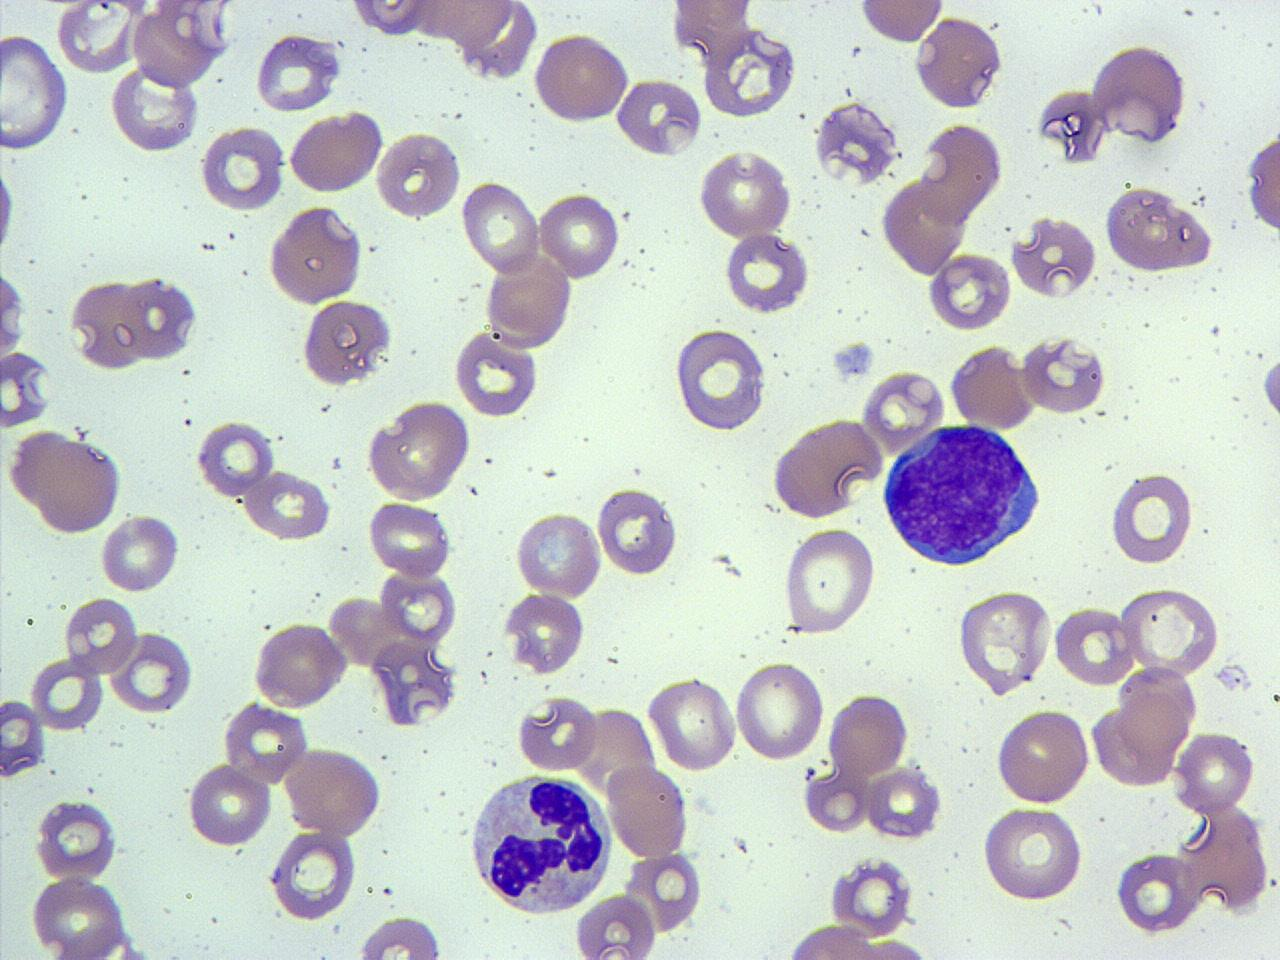Platelets: (830, 338, 877, 379), (0, 160, 17, 259), (1259, 352, 1280, 424), (1212, 661, 1252, 694)
RBC: (770, 414, 886, 522), (366, 398, 472, 502), (957, 588, 1056, 698), (978, 802, 1085, 903), (782, 524, 878, 636), (264, 203, 366, 308), (1090, 42, 1190, 147), (672, 326, 767, 434), (992, 706, 1092, 808), (1118, 584, 1222, 680), (1102, 184, 1210, 276), (644, 674, 740, 774), (532, 31, 634, 125), (733, 660, 827, 762), (32, 433, 124, 536), (282, 744, 382, 838), (878, 176, 970, 278), (912, 12, 1004, 113), (700, 24, 796, 120), (694, 148, 794, 240), (916, 117, 1006, 218), (109, 59, 202, 156), (250, 620, 349, 711), (480, 252, 572, 349), (604, 761, 691, 863), (299, 296, 394, 389), (0, 30, 71, 153), (29, 872, 128, 960), (286, 108, 384, 195), (268, 828, 358, 922), (373, 128, 464, 220), (594, 484, 682, 579), (460, 176, 542, 276), (512, 510, 603, 600), (451, 328, 540, 420), (1110, 469, 1194, 566), (812, 98, 902, 187), (949, 341, 1038, 431), (722, 229, 814, 316), (1010, 214, 1100, 302), (1113, 848, 1203, 936), (1170, 727, 1258, 817), (65, 276, 147, 371), (536, 191, 622, 281), (106, 630, 194, 717), (220, 700, 308, 787), (185, 760, 272, 848), (198, 125, 286, 212), (32, 797, 120, 883), (1019, 332, 1109, 416), (129, 5, 218, 89), (1053, 602, 1137, 690), (826, 691, 910, 779), (614, 75, 703, 158), (924, 249, 1012, 332), (253, 32, 342, 114), (860, 368, 948, 450), (504, 591, 588, 676), (830, 856, 916, 938), (624, 848, 704, 936), (124, 273, 201, 363), (514, 694, 600, 774), (367, 500, 453, 580), (243, 467, 333, 543), (98, 512, 181, 594), (195, 418, 276, 498), (64, 593, 140, 678), (54, 0, 142, 73), (378, 568, 459, 646), (29, 652, 104, 734), (780, 923, 942, 960), (572, 889, 656, 960), (1036, 84, 1106, 165), (865, 767, 942, 840), (403, 0, 516, 46), (801, 766, 872, 834), (1, 347, 54, 430), (355, 912, 446, 959), (856, 0, 948, 46), (0, 697, 45, 780), (1245, 130, 1279, 238), (668, 0, 758, 40), (347, 0, 435, 38), (1, 263, 27, 368)
WBC: (878, 418, 1047, 571), (464, 768, 616, 920), (773, 414, 886, 520), (1089, 40, 1187, 148), (1105, 184, 1215, 277), (298, 296, 397, 390), (816, 97, 904, 189), (253, 32, 344, 115), (1, 347, 54, 432), (1259, 349, 1279, 425)
